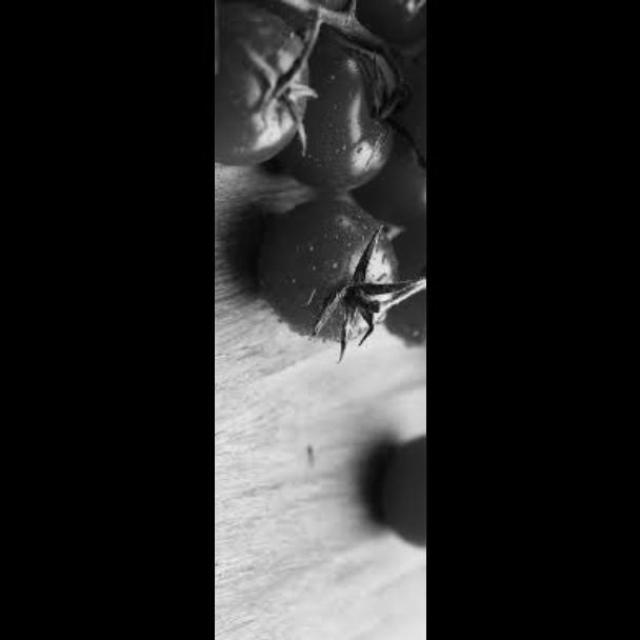ca chua: (250, 195, 403, 348), (268, 34, 406, 192), (215, 11, 311, 168), (373, 73, 427, 220), (374, 209, 426, 357), (373, 425, 427, 558), (278, 1, 370, 47), (354, 1, 427, 58)
